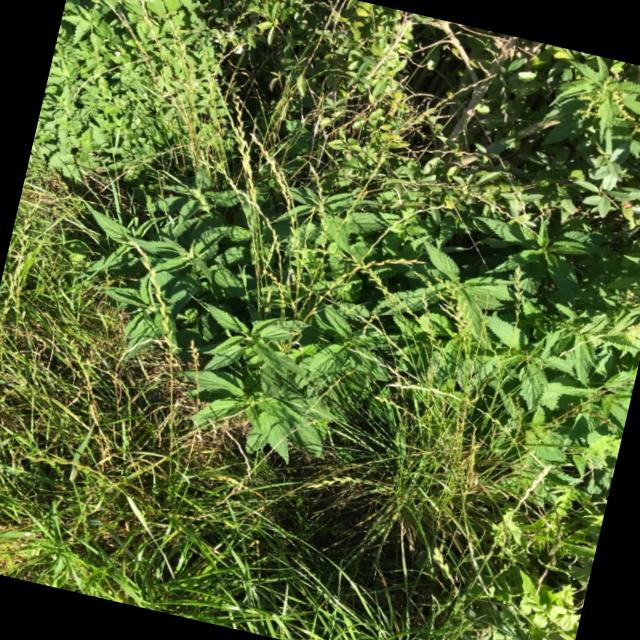Lolium: (341, 273, 588, 603), (165, 101, 404, 336), (89, 254, 244, 508), (428, 443, 560, 639), (388, 245, 390, 248)
